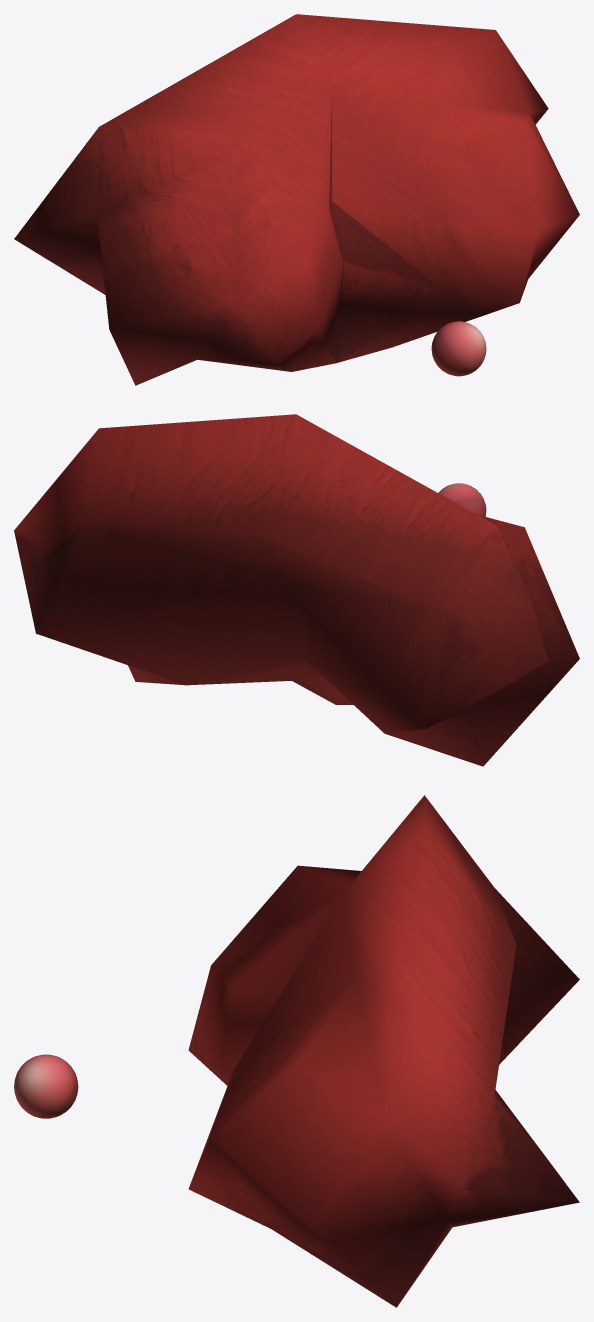
Rendered from SM_Clown_00.fbx.
The picture shows the model from 3 angles, top to bottom: view 1: azimuth 30°, elevation 25°; view 2: azimuth 150°, elevation 25°; view 3: azimuth 270°, elevation 25°; orthographic projection. The views are drawn at different scales.
Visible parts, largest first — view 1: SM_Clown_00; view 2: SM_Clown_00; view 3: SM_Clown_00.
Boxes of the visible parts, x1,y1,x2,y2 form: SM_Clown_00: [14, 14, 579, 385]; SM_Clown_00: [14, 414, 579, 766]; SM_Clown_00: [14, 795, 579, 1307].
Bounding box in the file's own units: 65.53 × 37.47 × 51.3.
